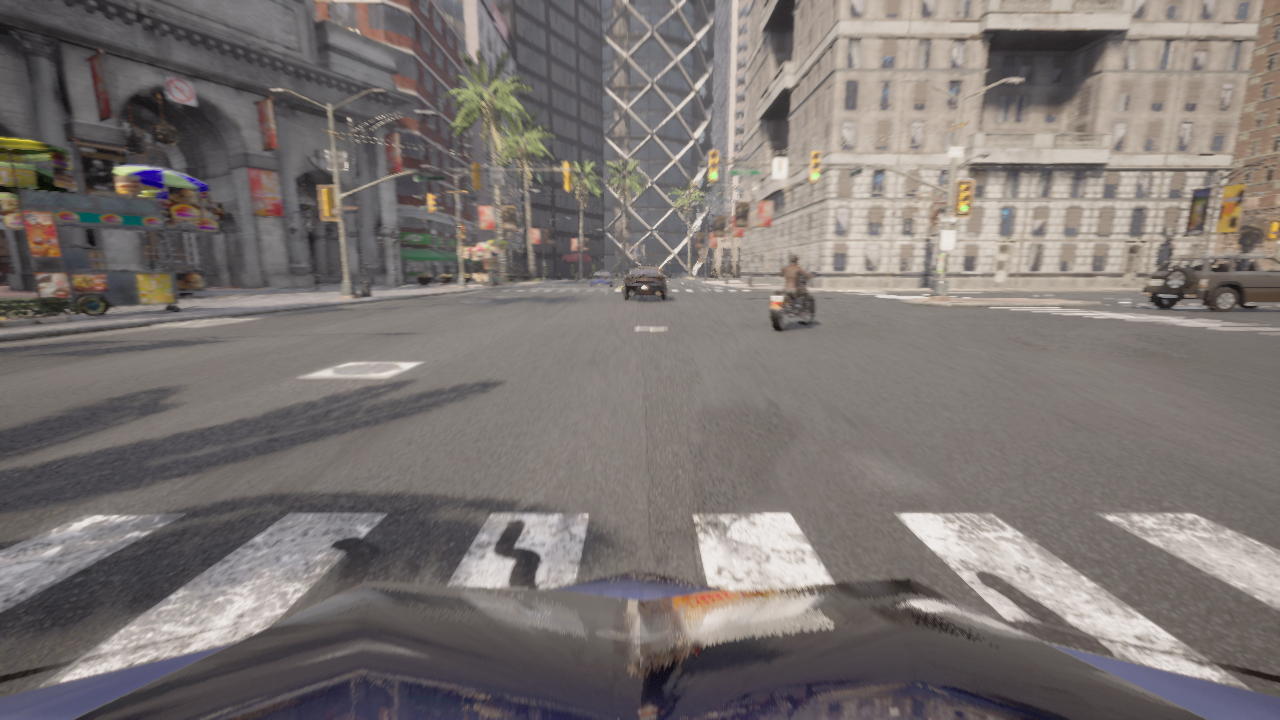cyclist: (0, 569, 1279, 719), (1140, 252, 1279, 312), (769, 272, 815, 332), (622, 265, 666, 300), (589, 271, 613, 287)
